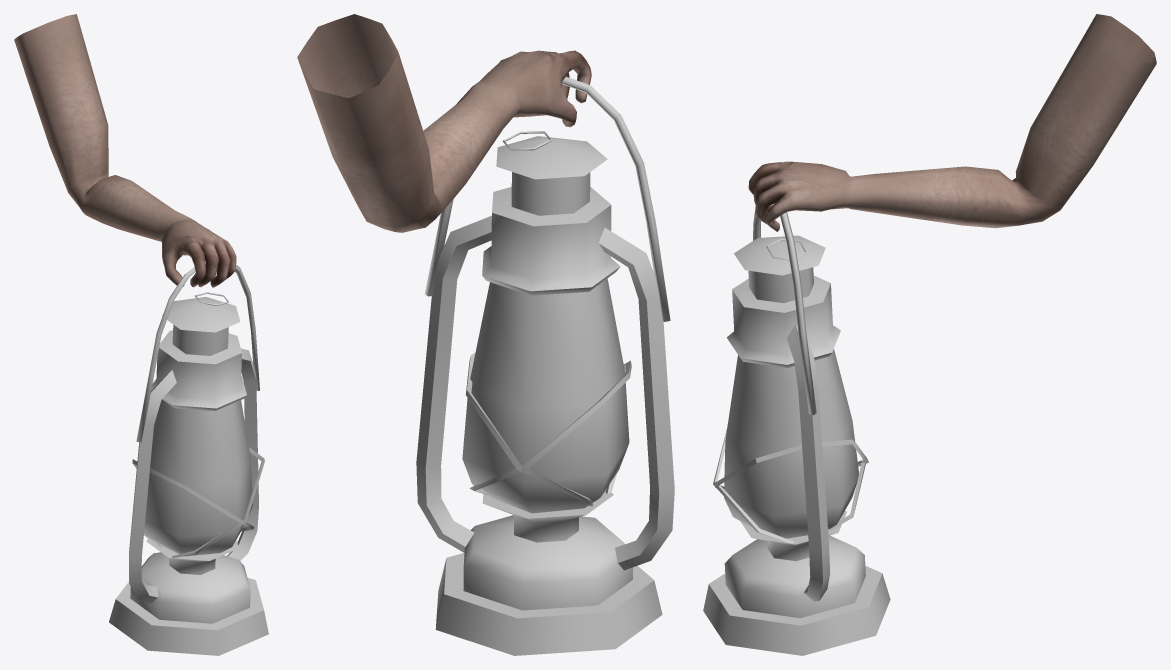
File: lanternwitharmfbx.fbx
3 renders of one model, left to right at view 1: azimuth 30°, elevation 25°; view 2: azimuth 150°, elevation 25°; view 3: azimuth 270°, elevation 25°, orthographic. The views are drawn at different scales.
Visible parts, largest first — view 1: LanternWithArm; view 2: LanternWithArm; view 3: LanternWithArm.
Boxes of the visible parts, x1,y1,x2,y2 form: LanternWithArm: (14, 14, 268, 655); LanternWithArm: (297, 14, 674, 655); LanternWithArm: (703, 14, 1156, 655).
Bounding box in the file's own units: 29.83 × 94.34 × 64.9.
